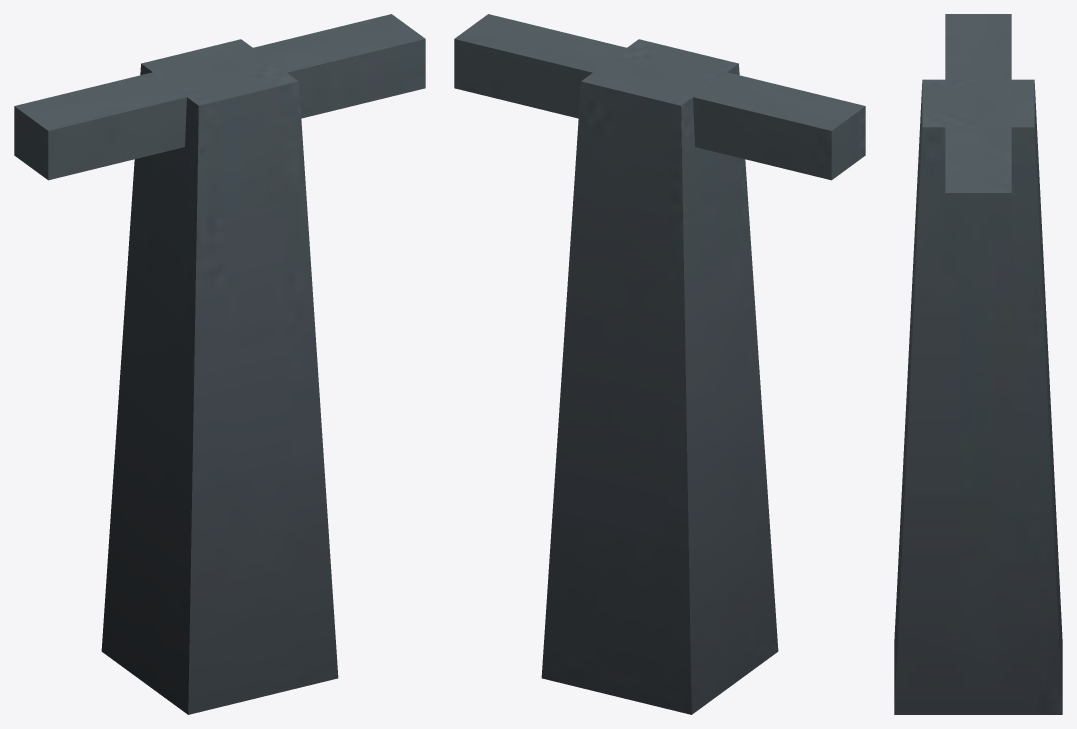
The model's file is big-electric-pole.glb.
3 views of the same model, side by side, from view 1: azimuth 30°, elevation 25°; view 2: azimuth 150°, elevation 25°; view 3: azimuth 270°, elevation 25° (orthographic). The views are drawn at different scales.
Visible parts, largest first — view 1: big-electric-pole; view 2: big-electric-pole; view 3: big-electric-pole.
Part boxes in pixels (x1=…): big-electric-pole: x1=14, y1=14, x2=425, y2=714; big-electric-pole: x1=454, y1=14, x2=865, y2=714; big-electric-pole: x1=894, y1=14, x2=1062, y2=714.
Size of the model in its own units: 0.16 by 0.24 by 0.0636.
Materials: 1 (1 with a texture image).
